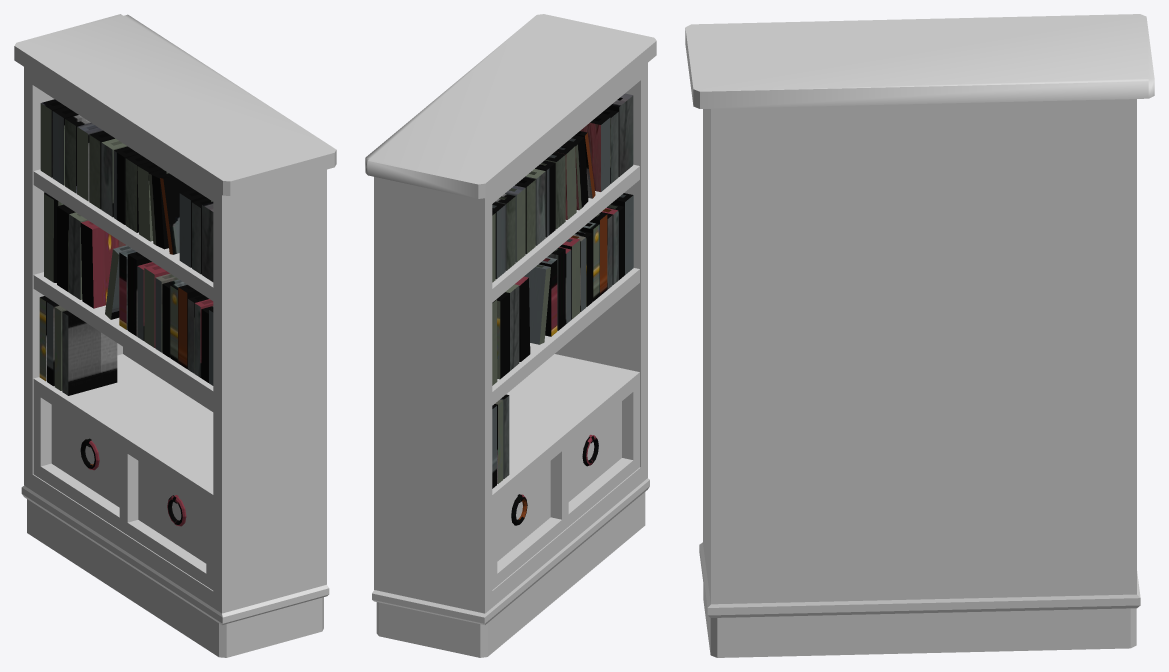
File: Estanteria.fbx
3 renders of one model, left to right at view 1: azimuth 30°, elevation 25°; view 2: azimuth 150°, elevation 25°; view 3: azimuth 270°, elevation 25°, orthographic. The views are drawn at different scales.
Visible parts, largest first — view 1: Plane.063; view 2: Plane.063; view 3: Plane.063.
Boxes of the visible parts, x1,y1,x2,y2 form: Plane.063: [14, 14, 336, 657]; Plane.063: [365, 14, 656, 657]; Plane.063: [685, 14, 1154, 657].
Size of the model in its own units: 62.83 by 214 by 160.
